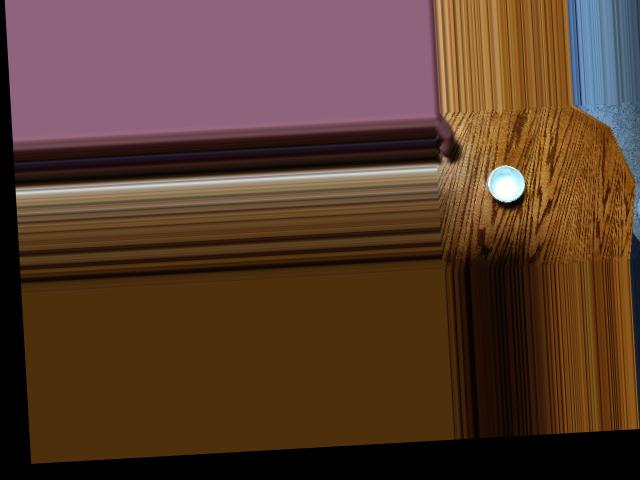cotage: (483, 160, 526, 202)
